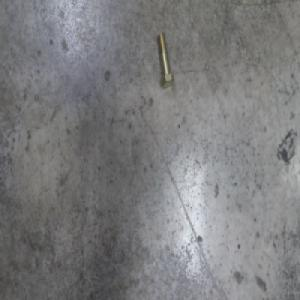Bolt: (156, 31, 174, 88)
